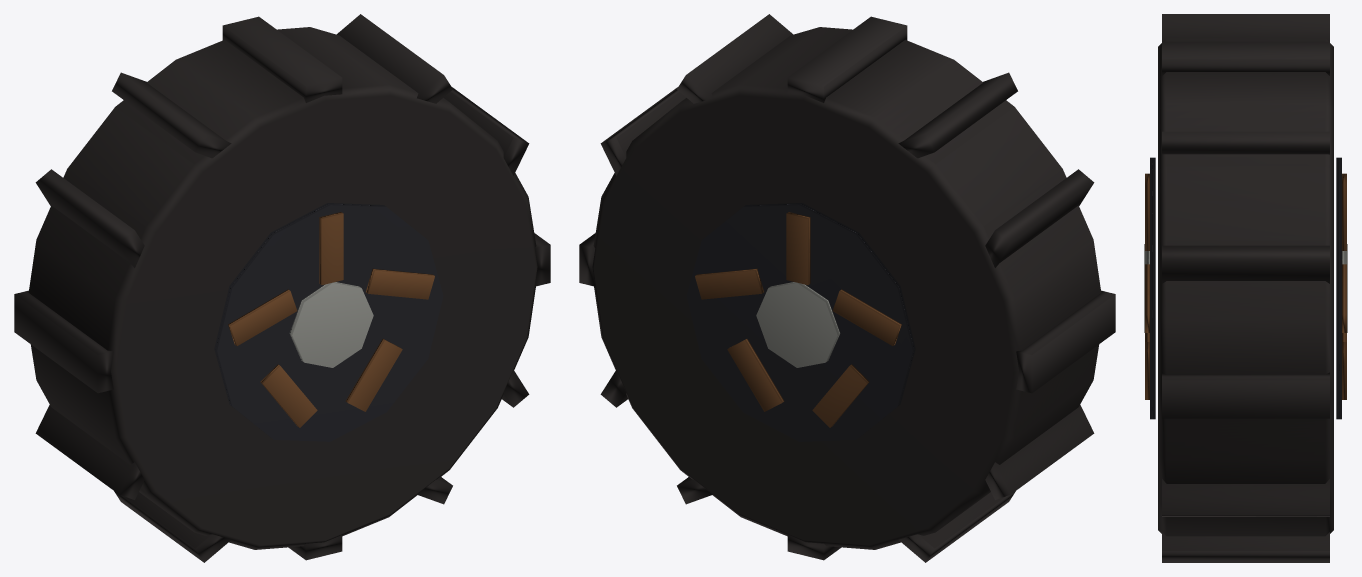
Rendered from wheel_buggy.glb.
3 renders of one model, left to right at view 1: azimuth 30°, elevation 25°; view 2: azimuth 150°, elevation 25°; view 3: azimuth 270°, elevation 25°, orthographic.
Parts seen in each view (by area): view 1: wheel_buggy; view 2: wheel_buggy; view 3: wheel_buggy.
Part boxes in pixels (<box>): wheel_buggy: <box>14,14,550,562</box>; wheel_buggy: <box>579,14,1115,562</box>; wheel_buggy: <box>1144,14,1347,562</box>.
Size of the model in its own units: 1.24 by 1.24 by 0.4796.
